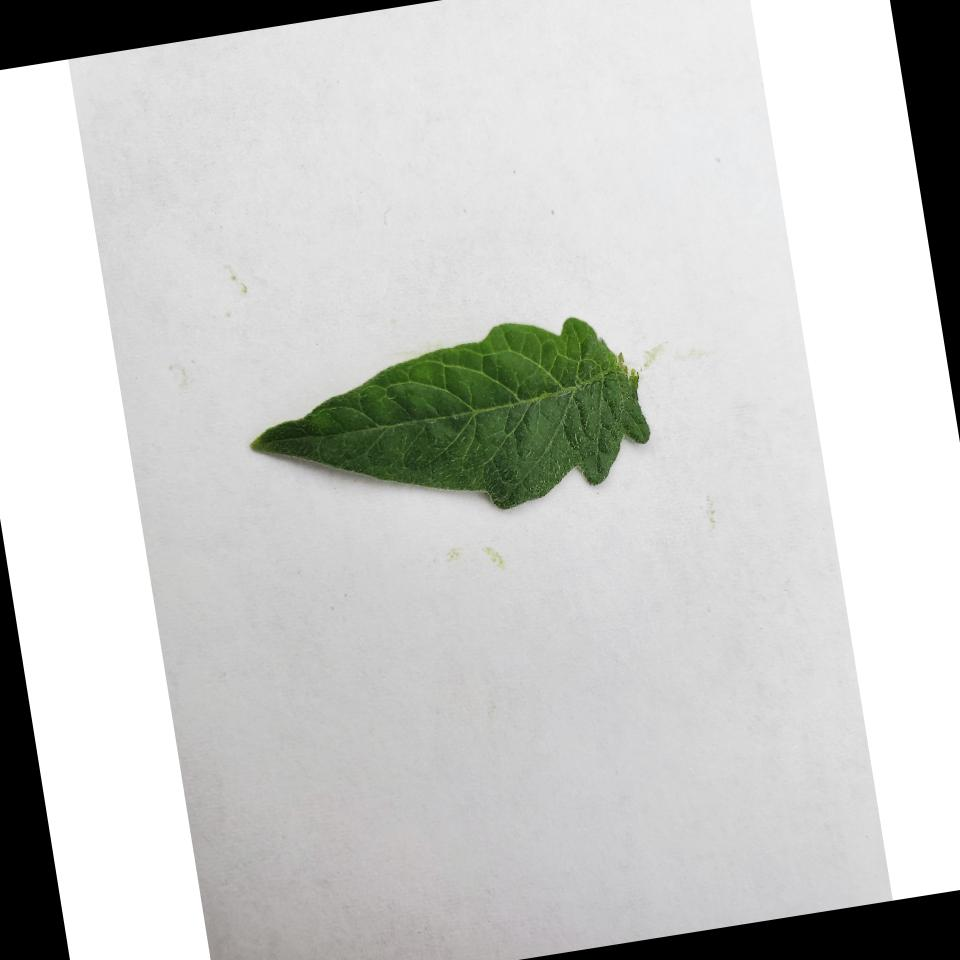tomato_leaves: (227, 294, 676, 537)
